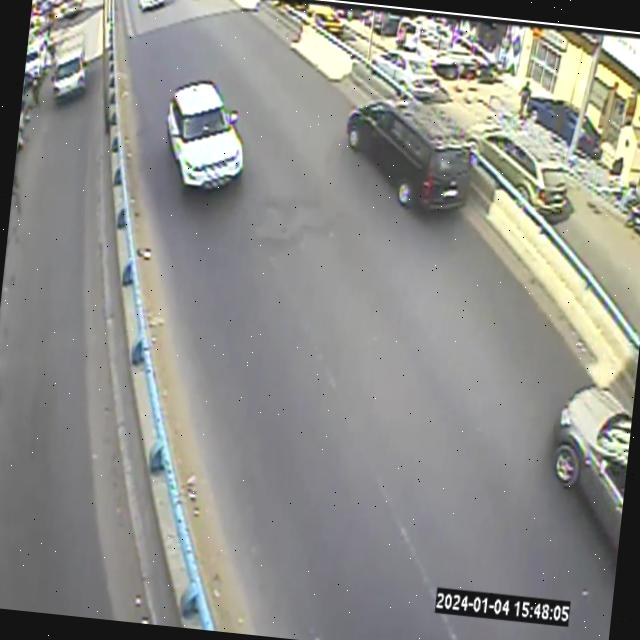car: (550, 384, 631, 549), (552, 386, 631, 548), (467, 123, 571, 222), (527, 95, 577, 144), (431, 50, 477, 79), (577, 117, 601, 158)
